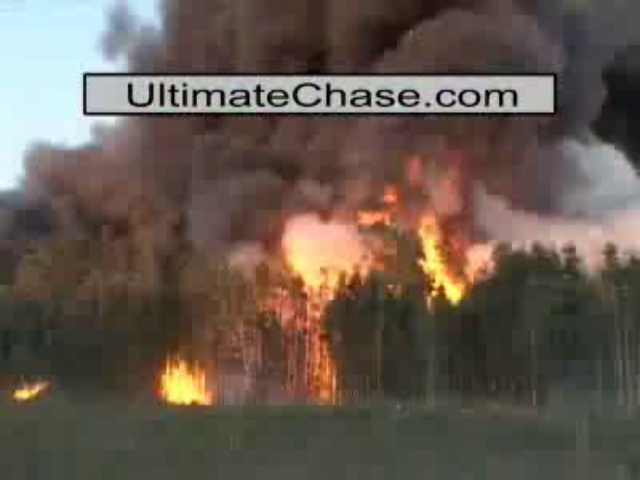fire: (277, 194, 482, 305), (158, 355, 218, 408)
